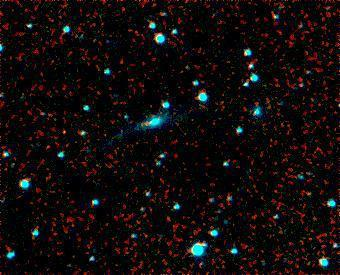star: (49, 106, 79, 136)
